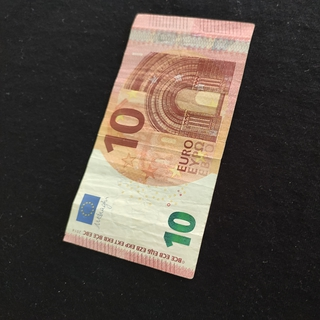10EUROFront: (61, 12, 255, 279)
